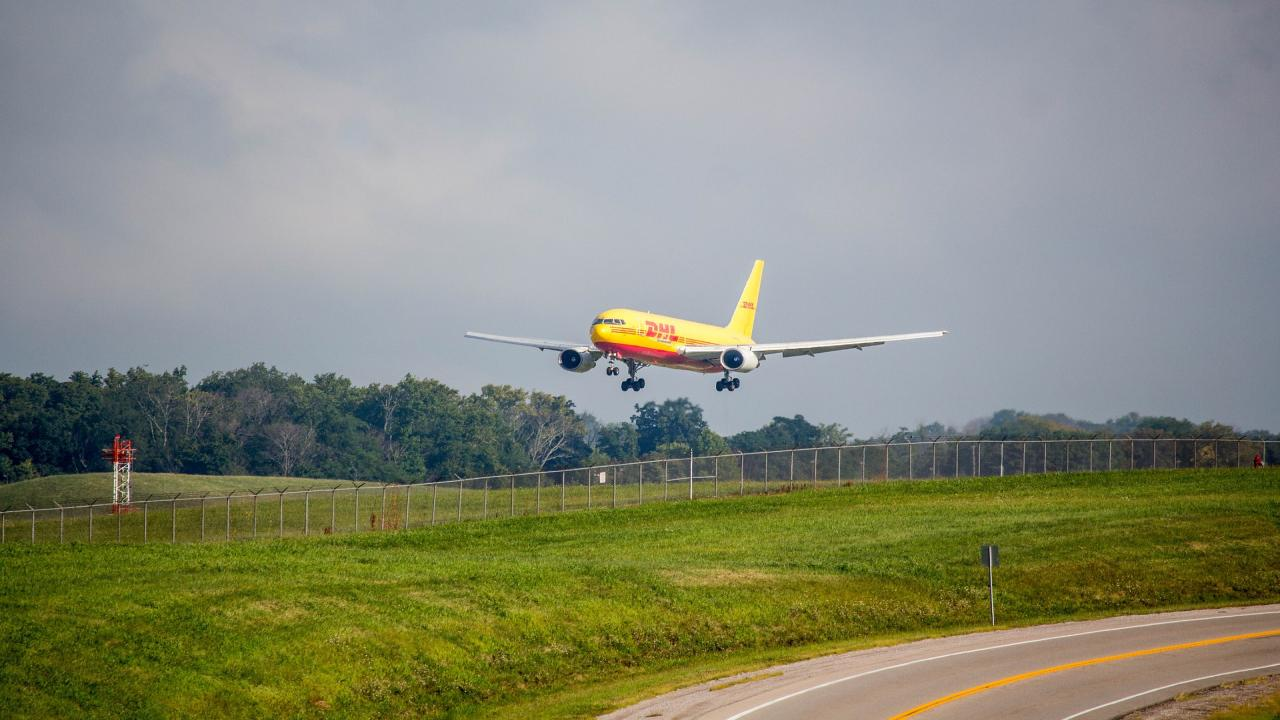Airplane: (454, 252, 956, 404)
